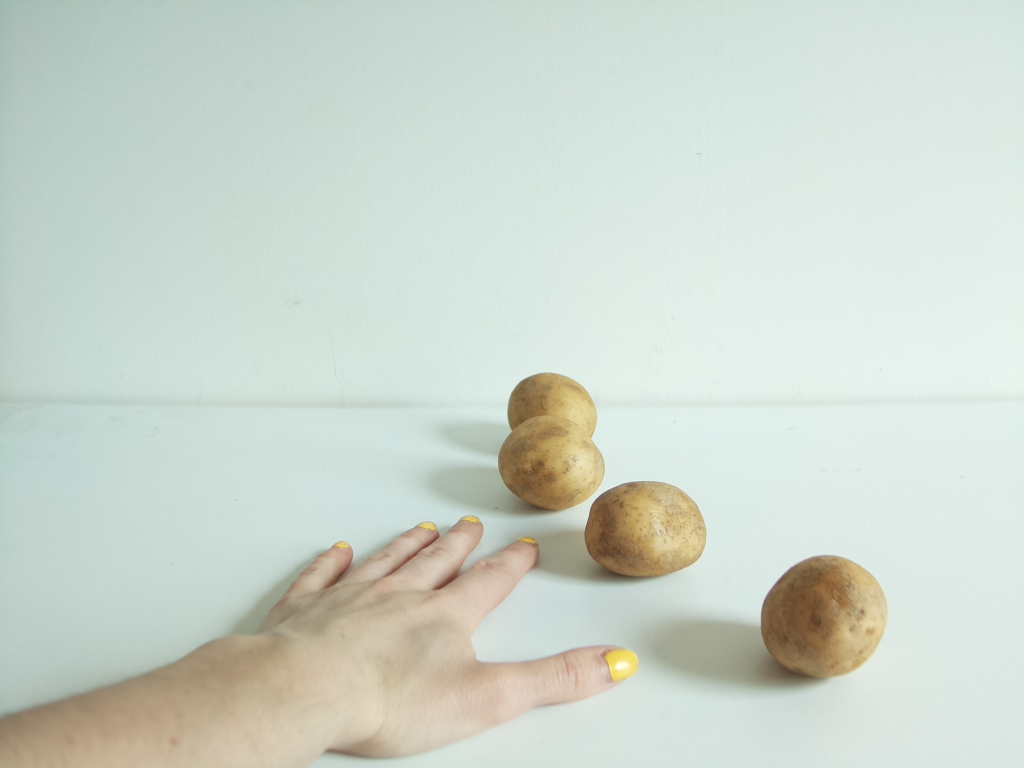potatoes: (759, 556, 884, 675), (496, 377, 603, 508), (587, 484, 703, 584)
